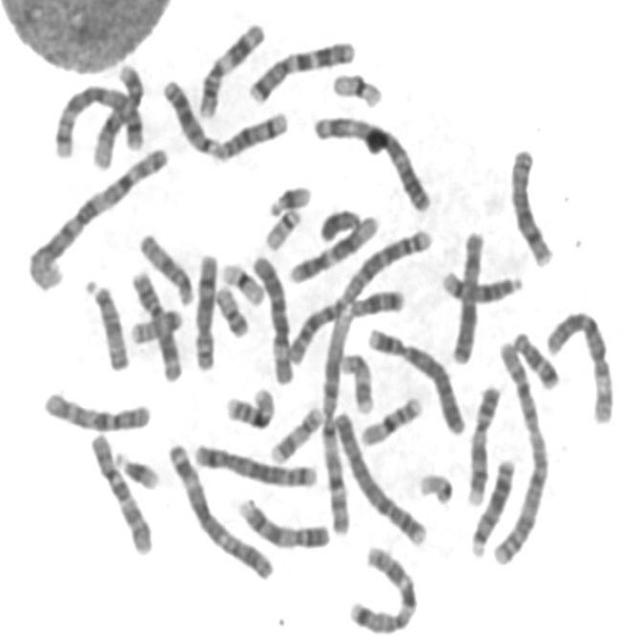A1: (21, 139, 172, 292), (316, 296, 358, 538)
A2: (282, 222, 436, 367), (487, 330, 552, 567)
A3: (161, 434, 277, 582), (306, 106, 434, 215)
B4: (327, 403, 429, 548), (362, 319, 469, 436)
B5: (47, 75, 147, 161), (188, 435, 318, 490)
C10: (83, 425, 155, 557), (36, 383, 154, 434)
C11: (192, 14, 267, 119), (125, 262, 185, 383)
C12: (284, 206, 382, 285), (87, 56, 146, 170)
C6: (541, 303, 617, 427), (245, 246, 296, 386)
C7: (243, 32, 358, 104), (342, 536, 420, 636)
C8: (503, 139, 556, 269), (188, 244, 219, 373)
C9: (232, 491, 331, 551), (462, 376, 504, 508)
D13: (464, 449, 520, 559), (158, 70, 220, 157)
D14: (209, 101, 291, 163), (436, 262, 525, 304)
D15: (78, 270, 132, 372), (134, 225, 196, 307)
E16: (354, 388, 424, 448), (220, 378, 278, 431)
E17: (264, 398, 325, 465), (335, 344, 376, 415)
E18: (506, 323, 562, 391), (343, 283, 408, 319)
F19: (215, 253, 266, 307), (326, 65, 386, 109)
F20: (124, 300, 184, 346), (209, 277, 251, 339)
G21: (109, 443, 161, 491), (262, 176, 314, 217)
G22: (258, 200, 304, 251), (412, 464, 456, 506)
X: (446, 222, 488, 365)
Y: (313, 199, 363, 244)
